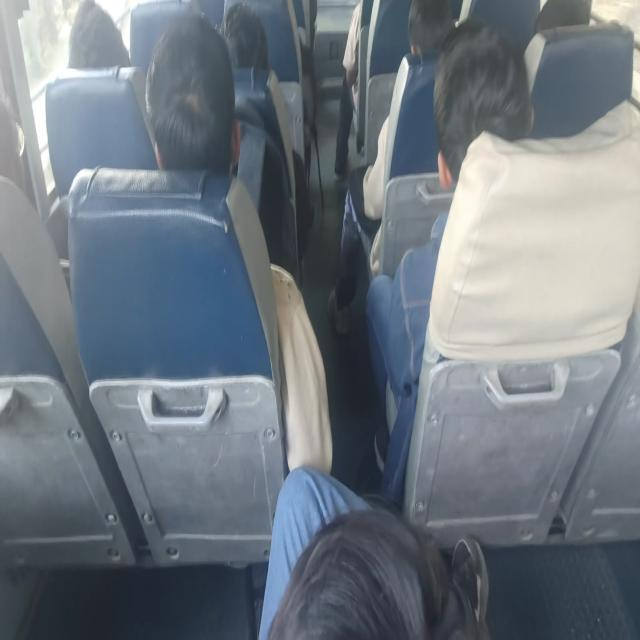person: (246, 484, 474, 640), (428, 36, 519, 186), (149, 34, 243, 177), (397, 0, 463, 89), (206, 0, 273, 84), (0, 68, 38, 209), (65, 0, 123, 71), (534, 0, 610, 43)
